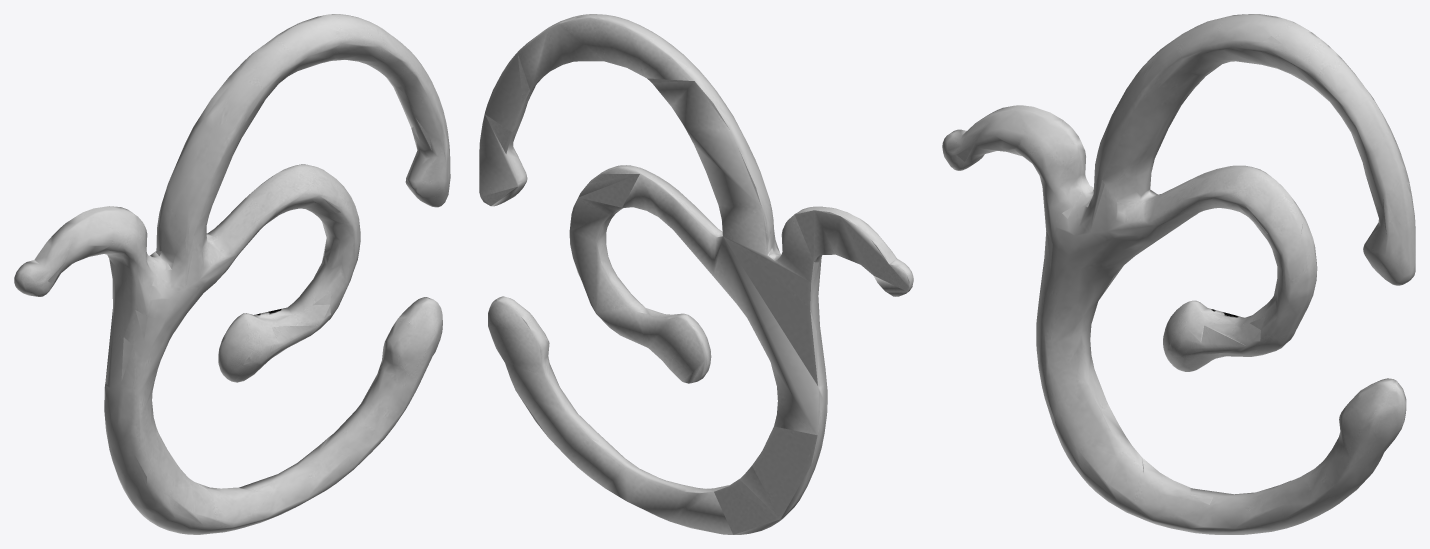
The picture shows the model from 3 angles, left to right: view 1: azimuth 30°, elevation 25°; view 2: azimuth 150°, elevation 25°; view 3: azimuth 330°, elevation 25°; orthographic projection. The views are drawn at different scales.
Visible parts, largest first — view 1: output_unwrapped; view 2: output_unwrapped; view 3: output_unwrapped.
Part boxes in pixels (bbox=[...]): output_unwrapped: bbox=[14, 14, 450, 534]; output_unwrapped: bbox=[479, 14, 913, 534]; output_unwrapped: bbox=[942, 14, 1415, 534].
Size of the model in its own units: 0.0462 by 0.05 by 0.00373.
1 material, 1 textured.
